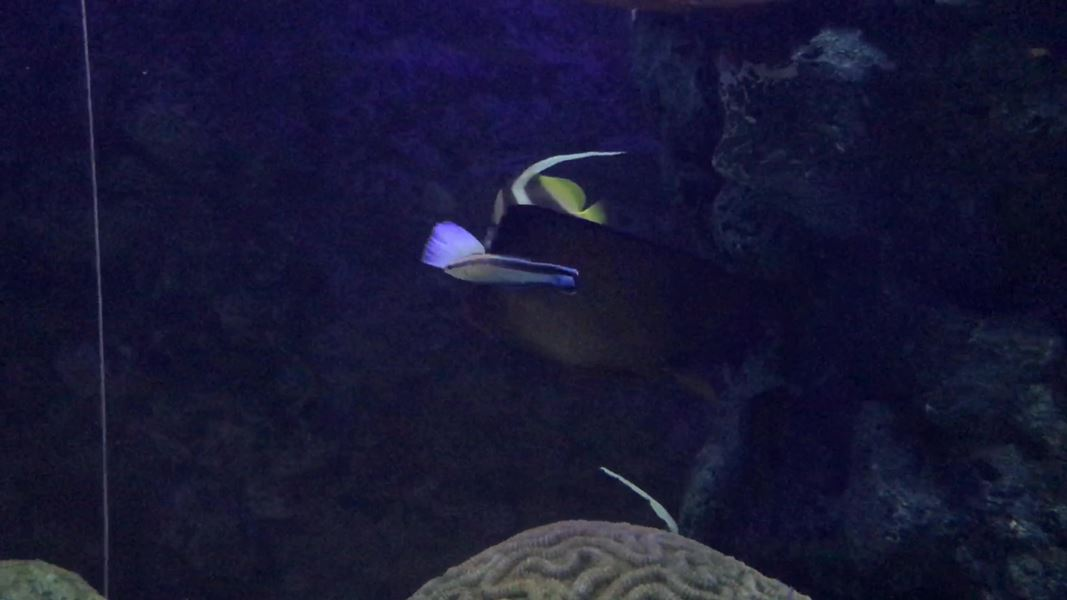Bluesteak cleaner wrasse: (428, 244, 587, 302)
